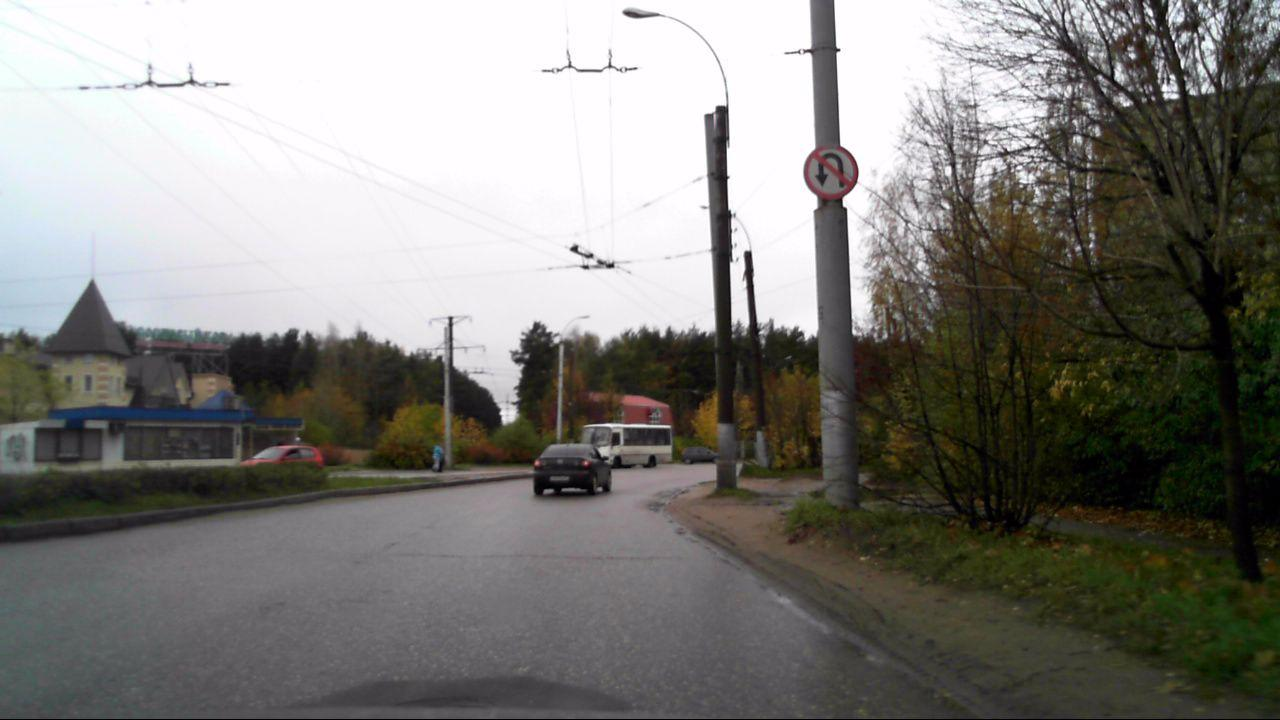3_19: (803, 145, 859, 199)
